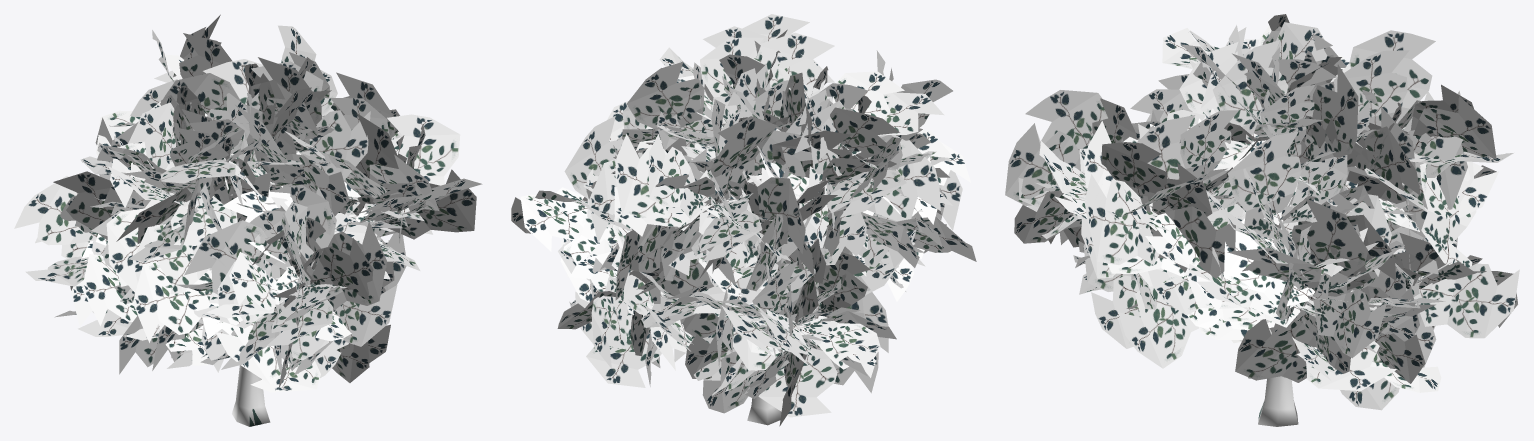
Rendered from ağaç2.fbx.
3 views of the same model, side by side, from view 1: azimuth 30°, elevation 25°; view 2: azimuth 150°, elevation 25°; view 3: azimuth 270°, elevation 25° (orthographic). The views are drawn at different scales.
Visible parts, largest first — view 1: Ağaç|Tree Branch|Dupli|68, Ağaç|Tree Branch|Dupli|408, Ağaç|Tree Branch|Dupli|85, Ağaç|Tree Branch|Dupli|453, Ağaç|Tree Branch|Dupli|409, Ağaç|Tree Branch|Dupli|84, Ağaç|Tree Branch|Dupli|30, Ağaç|Tree Branch|Dupli|229, Ağaç|Tree Branch|Dupli|87, Ağaç|Tree Branch|Dupli|470, Ağaç|Tree Branch|Dupli|438, Ağaç|Tree Branch|Dupli|197 (+69 smaller); view 2: Ağaç|Tree Branch|Dupli|237, Ağaç|Tree Branch|Dupli|361, Ağaç|Tree Branch|Dupli|478, Ağaç|Tree Branch|Dupli|356, Ağaç|Tree Branch|Dupli|315, Ağaç|Tree Branch|Dupli|171, Ağaç|Tree Branch|Dupli|363, Ağaç|Tree Branch|Dupli|342, Ağaç|Tree Branch|Dupli|109, Ağaç|Tree Branch|Dupli|452, Ağaç|Tree Branch|Dupli|362, Ağaç|Tree Branch|Dupli|325 (+78 smaller); view 3: Ağaç|Tree Branch|Dupli|323, Ağaç|Tree Branch|Dupli|256, Ağaç|Tree Branch|Dupli|409, Ağaç|Tree Branch|Dupli|282, Ağaç|Tree Branch|Dupli|306, Ağaç|Tree Branch|Dupli|296, Ağaç|Tree Branch|Dupli|17, Ağaç|Tree Branch|Dupli|87, Ağaç|Tree Branch|Dupli|237, Ağaç|Tree Branch|Dupli|354, Ağaç|Tree Branch|Dupli|324, Ağaç|Tree Branch|Dupli|35 (+69 smaller).
Part boxes in pixels (bbox=[...]): Ağaç|Tree Branch|Dupli|68: bbox=[133, 261, 218, 342]; Ağaç|Tree Branch|Dupli|408: bbox=[375, 114, 460, 212]; Ağaç|Tree Branch|Dupli|85: bbox=[184, 220, 279, 294]; Ağaç|Tree Branch|Dupli|453: bbox=[14, 176, 105, 254]; Ağaç|Tree Branch|Dupli|409: bbox=[357, 169, 476, 239]; Ağaç|Tree Branch|Dupli|84: bbox=[288, 238, 373, 299]; Ağaç|Tree Branch|Dupli|30: bbox=[266, 284, 332, 346]; Ağaç|Tree Branch|Dupli|229: bbox=[296, 110, 370, 180]; Ağaç|Tree Branch|Dupli|87: bbox=[300, 221, 386, 311]; Ağaç|Tree Branch|Dupli|470: bbox=[82, 254, 137, 325]; Ağaç|Tree Branch|Dupli|438: bbox=[53, 171, 121, 239]; Ağaç|Tree Branch|Dupli|197: bbox=[128, 102, 175, 170]; Ağaç|Tree Branch|Dupli|237: bbox=[626, 62, 725, 130]; Ağaç|Tree Branch|Dupli|361: bbox=[704, 116, 777, 205]; Ağaç|Tree Branch|Dupli|478: bbox=[758, 347, 837, 417]; Ağaç|Tree Branch|Dupli|356: bbox=[615, 134, 709, 230]; Ağaç|Tree Branch|Dupli|315: bbox=[520, 187, 587, 251]; Ağaç|Tree Branch|Dupli|171: bbox=[867, 140, 940, 221]; Ağaç|Tree Branch|Dupli|363: bbox=[648, 134, 709, 219]; Ağaç|Tree Branch|Dupli|342: bbox=[741, 177, 805, 253]; Ağaç|Tree Branch|Dupli|109: bbox=[753, 32, 834, 89]; Ağaç|Tree Branch|Dupli|452: bbox=[799, 316, 880, 364]; Ağaç|Tree Branch|Dupli|362: bbox=[697, 199, 762, 262]; Ağaç|Tree Branch|Dupli|325: bbox=[591, 276, 627, 368]; Ağaç|Tree Branch|Dupli|323: bbox=[1413, 263, 1519, 338]; Ağaç|Tree Branch|Dupli|256: bbox=[1227, 131, 1301, 238]; Ağaç|Tree Branch|Dupli|409: bbox=[1084, 174, 1159, 264]; Ağaç|Tree Branch|Dupli|282: bbox=[1235, 319, 1316, 382]; Ağaç|Tree Branch|Dupli|306: bbox=[1313, 272, 1386, 358]; Ağaç|Tree Branch|Dupli|296: bbox=[1291, 198, 1368, 299]; Ağaç|Tree Branch|Dupli|17: bbox=[1118, 285, 1198, 368]; Ağaç|Tree Branch|Dupli|87: bbox=[1005, 123, 1084, 205]; Ağaç|Tree Branch|Dupli|237: bbox=[1299, 64, 1358, 163]; Ağaç|Tree Branch|Dupli|354: bbox=[1334, 50, 1409, 130]; Ağaç|Tree Branch|Dupli|324: bbox=[1420, 161, 1483, 267]; Ağaç|Tree Branch|Dupli|35: bbox=[1025, 90, 1107, 150].
Size of the model in its own units: 1899 by 1771 by 2151.
